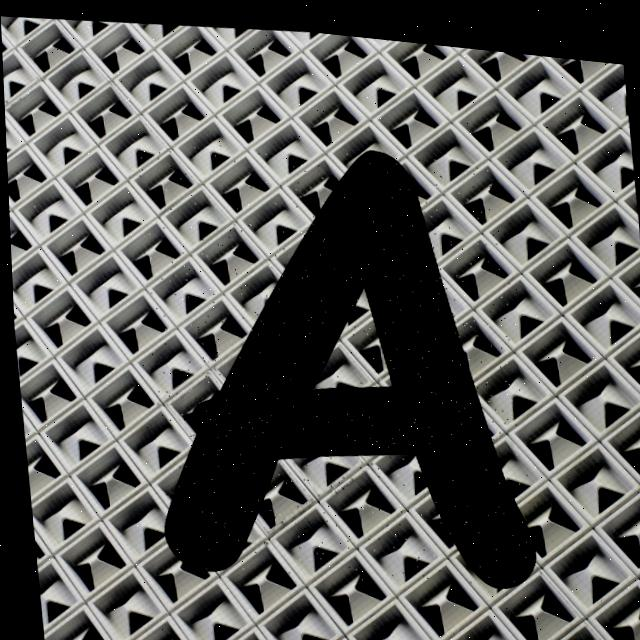A: (160, 144, 532, 577)
